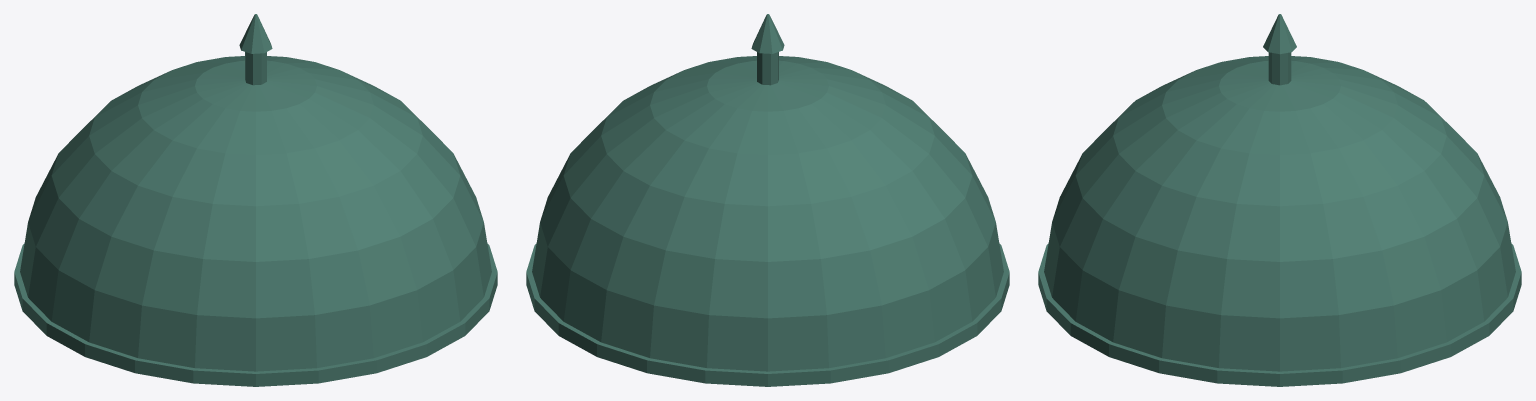
File: roof_dome_d32.fbx
The picture shows the model from 3 angles, left to right: view 1: azimuth 30°, elevation 25°; view 2: azimuth 150°, elevation 25°; view 3: azimuth 270°, elevation 25°; orthographic projection.
Visible parts, largest first — view 1: roof_dome_d32; view 2: roof_dome_d32; view 3: roof_dome_d32.
Part boxes in pixels (left/top/right/bottom): roof_dome_d32: left=14, top=14, right=497, bottom=386; roof_dome_d32: left=526, top=14, right=1009, bottom=386; roof_dome_d32: left=1038, top=14, right=1521, bottom=386.
Bounding box in the file's own units: 3380 × 2085 × 3380.
